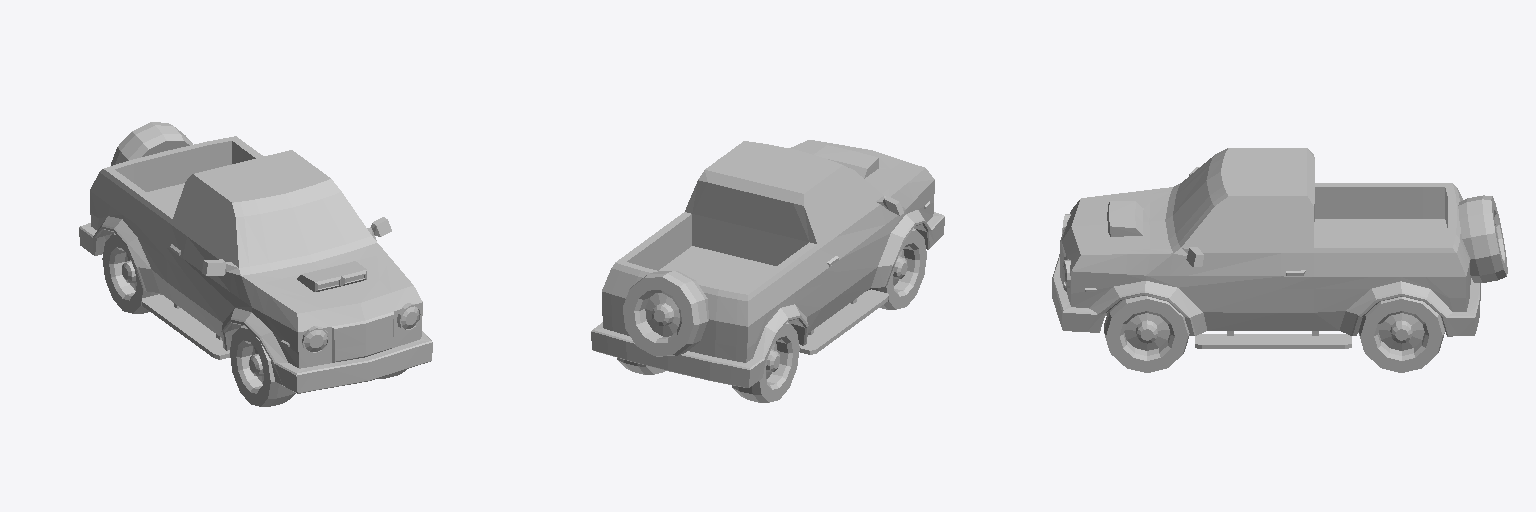
File: 1385 Jeep.obj
The picture shows the model from 3 angles: view 1: azimuth 30°, elevation 25°; view 2: azimuth 150°, elevation 25°; view 3: azimuth 270°, elevation 25°; orthographic projection.
Visible parts, largest first — view 1: Jeep; view 2: Jeep; view 3: Jeep.
Part boxes in pixels (x1,y1,x2,y2): Jeep: (79, 122, 432, 406); Jeep: (591, 140, 944, 402); Jeep: (1052, 148, 1507, 372).
Size of the model in its own units: 45.5 by 39.29 by 96.46.